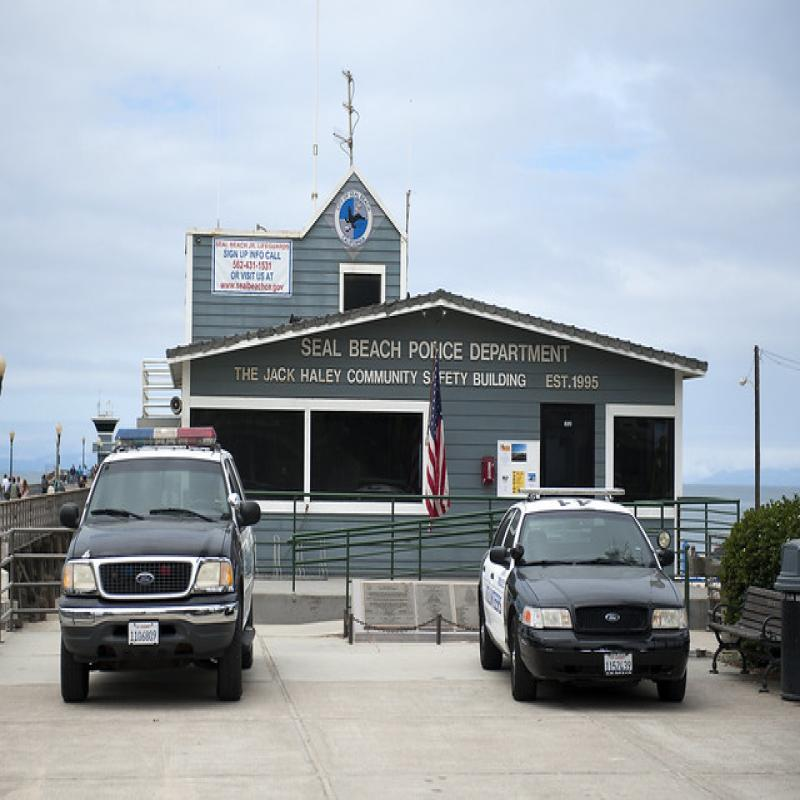AmbulanceSiren: (511, 470, 642, 527), (109, 412, 219, 454)
